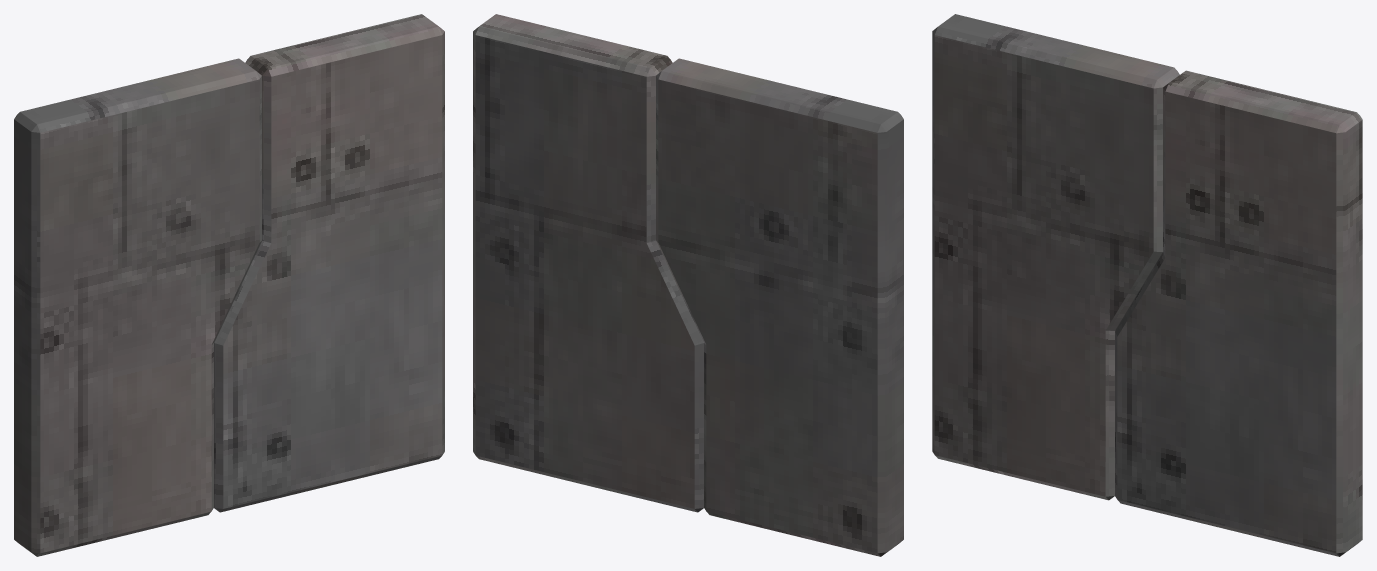
File: station_module_door.glb
The picture shows the model from 3 angles, left to right: view 1: azimuth 30°, elevation 25°; view 2: azimuth 150°, elevation 25°; view 3: azimuth 330°, elevation 25°; orthographic projection.
Parts seen in each view (by area): view 1: Station Module Door Left, Station Module Door Right; view 2: Station Module Door Left, Station Module Door Right; view 3: Station Module Door Right, Station Module Door Left.
Part boxes in pixels (x1,y1,x2,y2): Station Module Door Left: (14, 58, 261, 556); Station Module Door Right: (214, 14, 444, 512); Station Module Door Left: (656, 58, 903, 556); Station Module Door Right: (473, 14, 703, 512); Station Module Door Right: (1115, 70, 1362, 556); Station Module Door Left: (932, 14, 1179, 500).
Size of the model in its own units: 2.15 by 2.15 by 0.2153.
Materials: 1 (1 with a texture image).
